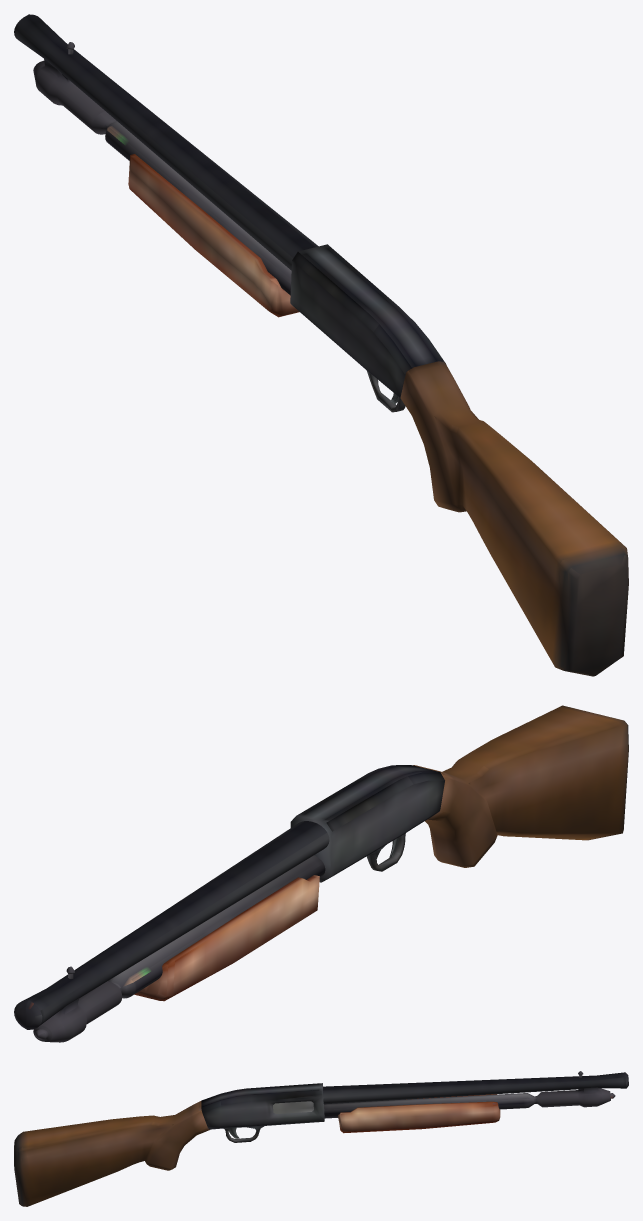
The model's file is Shotgun_prop_PSX.fbx.
3 renders of one model, top to bottom at view 1: azimuth 30°, elevation 25°; view 2: azimuth 150°, elevation 25°; view 3: azimuth 270°, elevation 25°, orthographic. The views are drawn at different scales.
Visible parts, largest first — view 1: Shotgun_OnePiece; view 2: Shotgun_OnePiece; view 3: Shotgun_OnePiece.
Boxes of the visible parts, left/top/right/bottom form: Shotgun_OnePiece: left=14, top=14, right=628, bottom=676; Shotgun_OnePiece: left=14, top=705, right=628, bottom=1042; Shotgun_OnePiece: left=14, top=1071, right=628, bottom=1206.
Size of the model in its own units: 69.01 by 245 by 1016.
